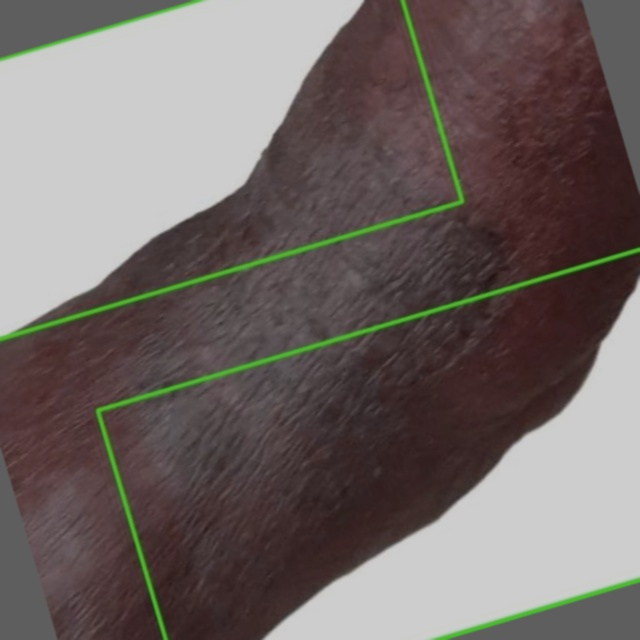Eczema: (97, 250, 639, 639), (0, 0, 462, 338)
